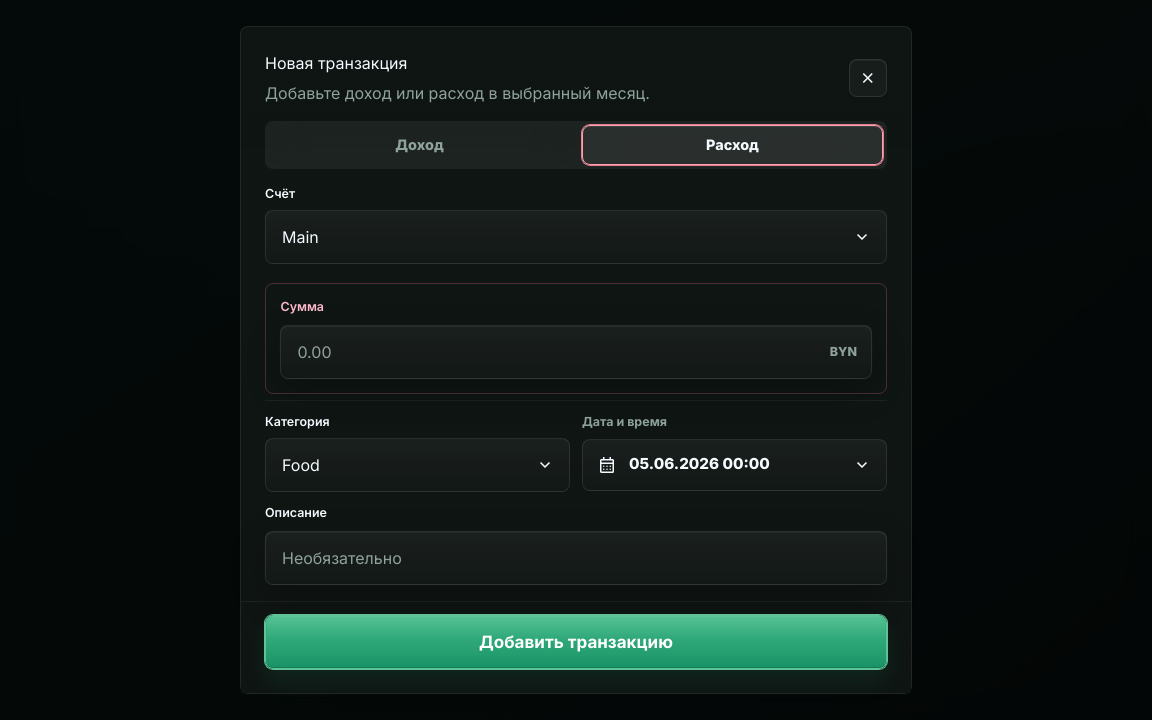
Test case: AddTransactionDialogComponent › limits overlong date input to a four digit year immediately
The width and height of the screenshot is (1152, 720).
Click the button with class "ms-date-time-picker__trigger" at x=734, y=465, box x1=582 y1=439 x2=887 y2=491
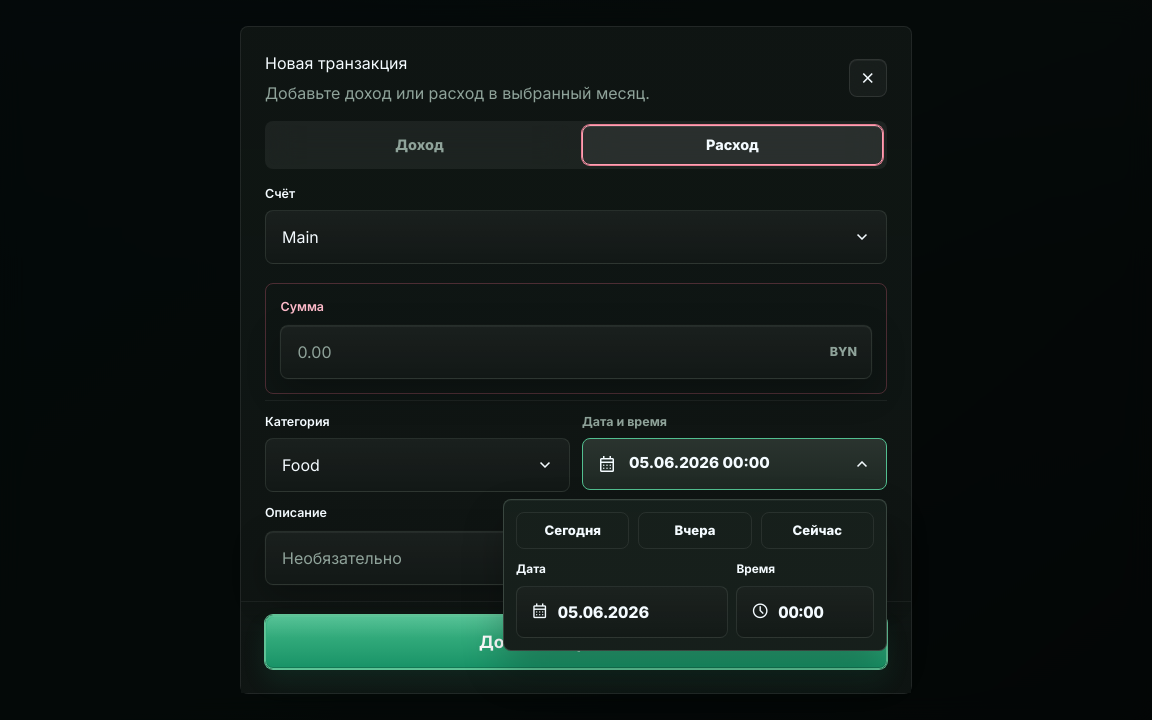
Expected: the field with class "ms-date-time-picker__date-input" is shown
Replace the text in the field with class "ms-date-time-picker__date-input" with "060720266666" at x=635, y=612, box x1=558 y1=600 x2=713 y2=624
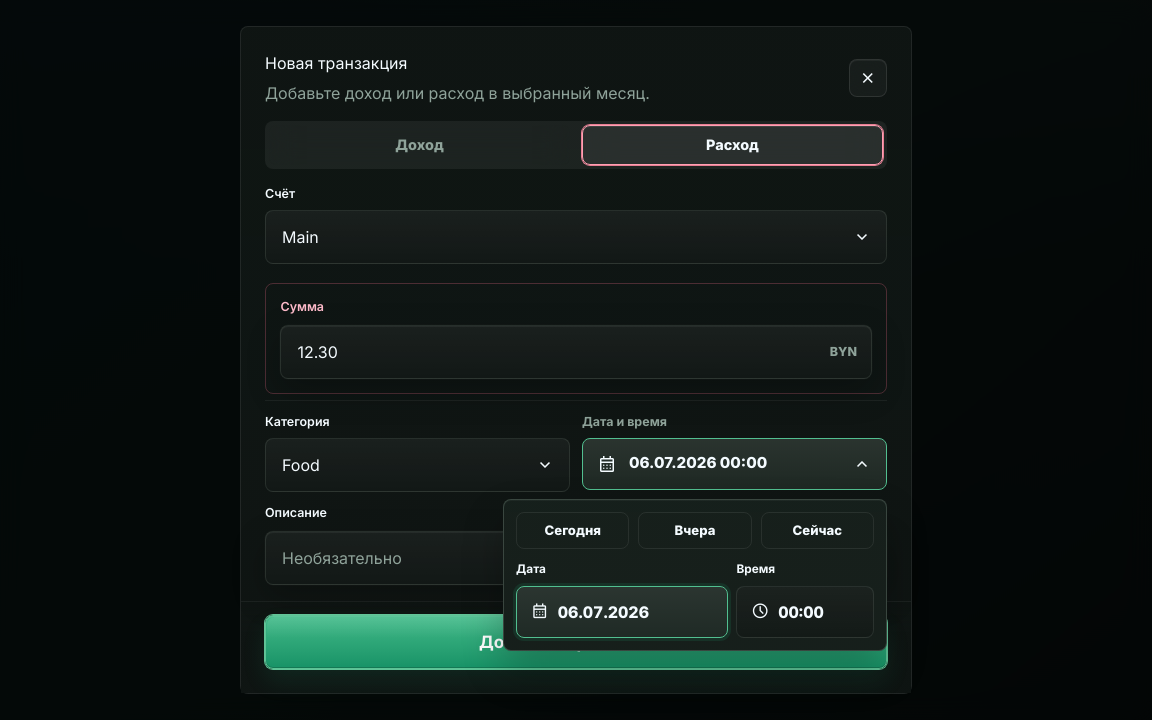
Expected: the field with class "ms-date-time-picker__date-input" holds "06.07.2026", x1=558 y1=600 x2=713 y2=624
